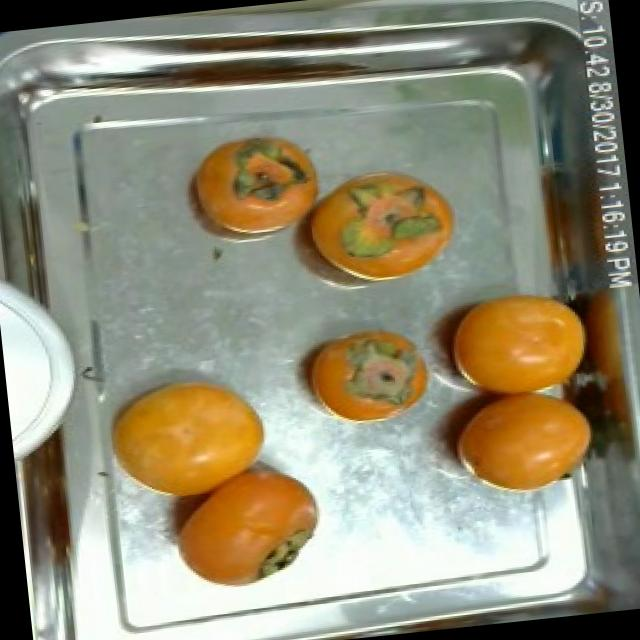Fruit: (83, 353, 290, 522), (157, 452, 336, 606), (434, 367, 612, 512), (432, 276, 602, 412), (298, 157, 464, 291), (167, 128, 333, 248), (284, 314, 442, 438)
